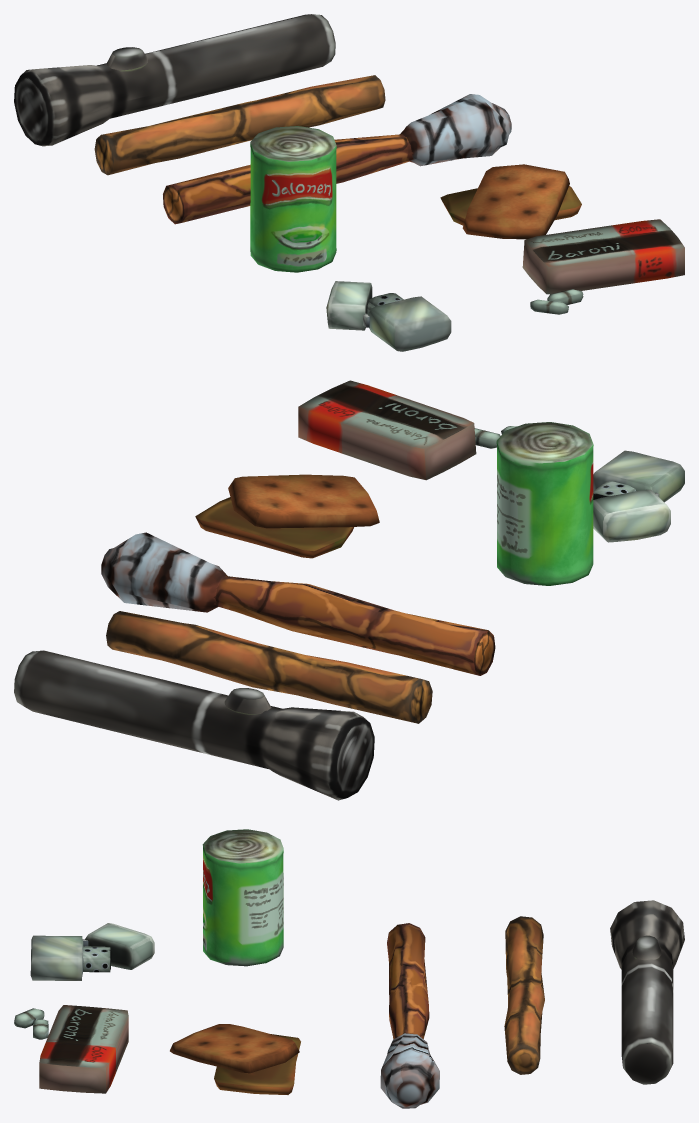
The model's file is prop-survival-items.glb.
3 renders of one model, top to bottom at view 1: azimuth 30°, elevation 25°; view 2: azimuth 150°, elevation 25°; view 3: azimuth 270°, elevation 25°, orthographic. The views are drawn at different scales.
Visible parts, largest first — view 1: Flashlight_Material #32_0, PeaSoup_Material #32_0, Torch_Material #32_0, Log_Material #32_0, Painkillers_Material #32_0, RyeBread_Material #32_0, Flippo_Material #32_0; view 2: Flashlight_Material #32_0, Torch_Material #32_0, PeaSoup_Material #32_0, Log_Material #32_0, Painkillers_Material #32_0, RyeBread_Material #32_0, Flippo_Material #32_0; view 3: PeaSoup_Material #32_0, Flashlight_Material #32_0, Torch_Material #32_0, Painkillers_Material #32_0, RyeBread_Material #32_0, Log_Material #32_0, Flippo_Material #32_0.
Part boxes in pixels (bbox=[...]): Flashlight_Material #32_0: bbox=[14, 14, 335, 146]; PeaSoup_Material #32_0: bbox=[250, 126, 336, 272]; Torch_Material #32_0: bbox=[163, 94, 511, 224]; Log_Material #32_0: bbox=[94, 75, 385, 175]; Painkillers_Material #32_0: bbox=[522, 219, 684, 314]; RyeBread_Material #32_0: bbox=[440, 164, 581, 239]; Flippo_Material #32_0: bbox=[326, 281, 451, 351]; Flashlight_Material #32_0: bbox=[14, 650, 374, 800]; Torch_Material #32_0: bbox=[101, 532, 495, 675]; PeaSoup_Material #32_0: bbox=[496, 422, 593, 585]; Log_Material #32_0: bbox=[106, 611, 432, 723]; Painkillers_Material #32_0: bbox=[298, 380, 516, 480]; RyeBread_Material #32_0: bbox=[195, 474, 379, 558]; Flippo_Material #32_0: bbox=[593, 450, 684, 542]; PeaSoup_Material #32_0: bbox=[202, 829, 283, 966]; Flashlight_Material #32_0: bbox=[610, 900, 684, 1084]; Torch_Material #32_0: bbox=[380, 923, 439, 1108]; Painkillers_Material #32_0: bbox=[14, 1005, 128, 1093]; RyeBread_Material #32_0: bbox=[170, 1024, 300, 1094]; Log_Material #32_0: bbox=[504, 916, 544, 1074]; Flippo_Material #32_0: bbox=[30, 923, 154, 980].
Size of the model in its own units: 70.21 by 28.88 by 126.
Materials: 1 (1 with a texture image).
